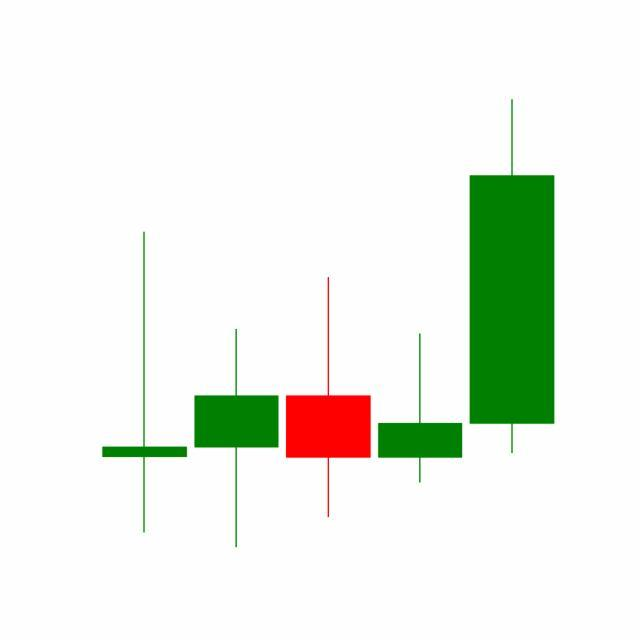Gravestone Doji: (374, 332, 468, 485)
